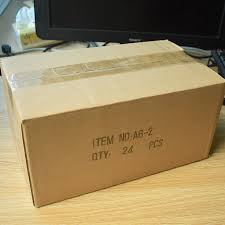undamaged: (0, 39, 224, 208)
